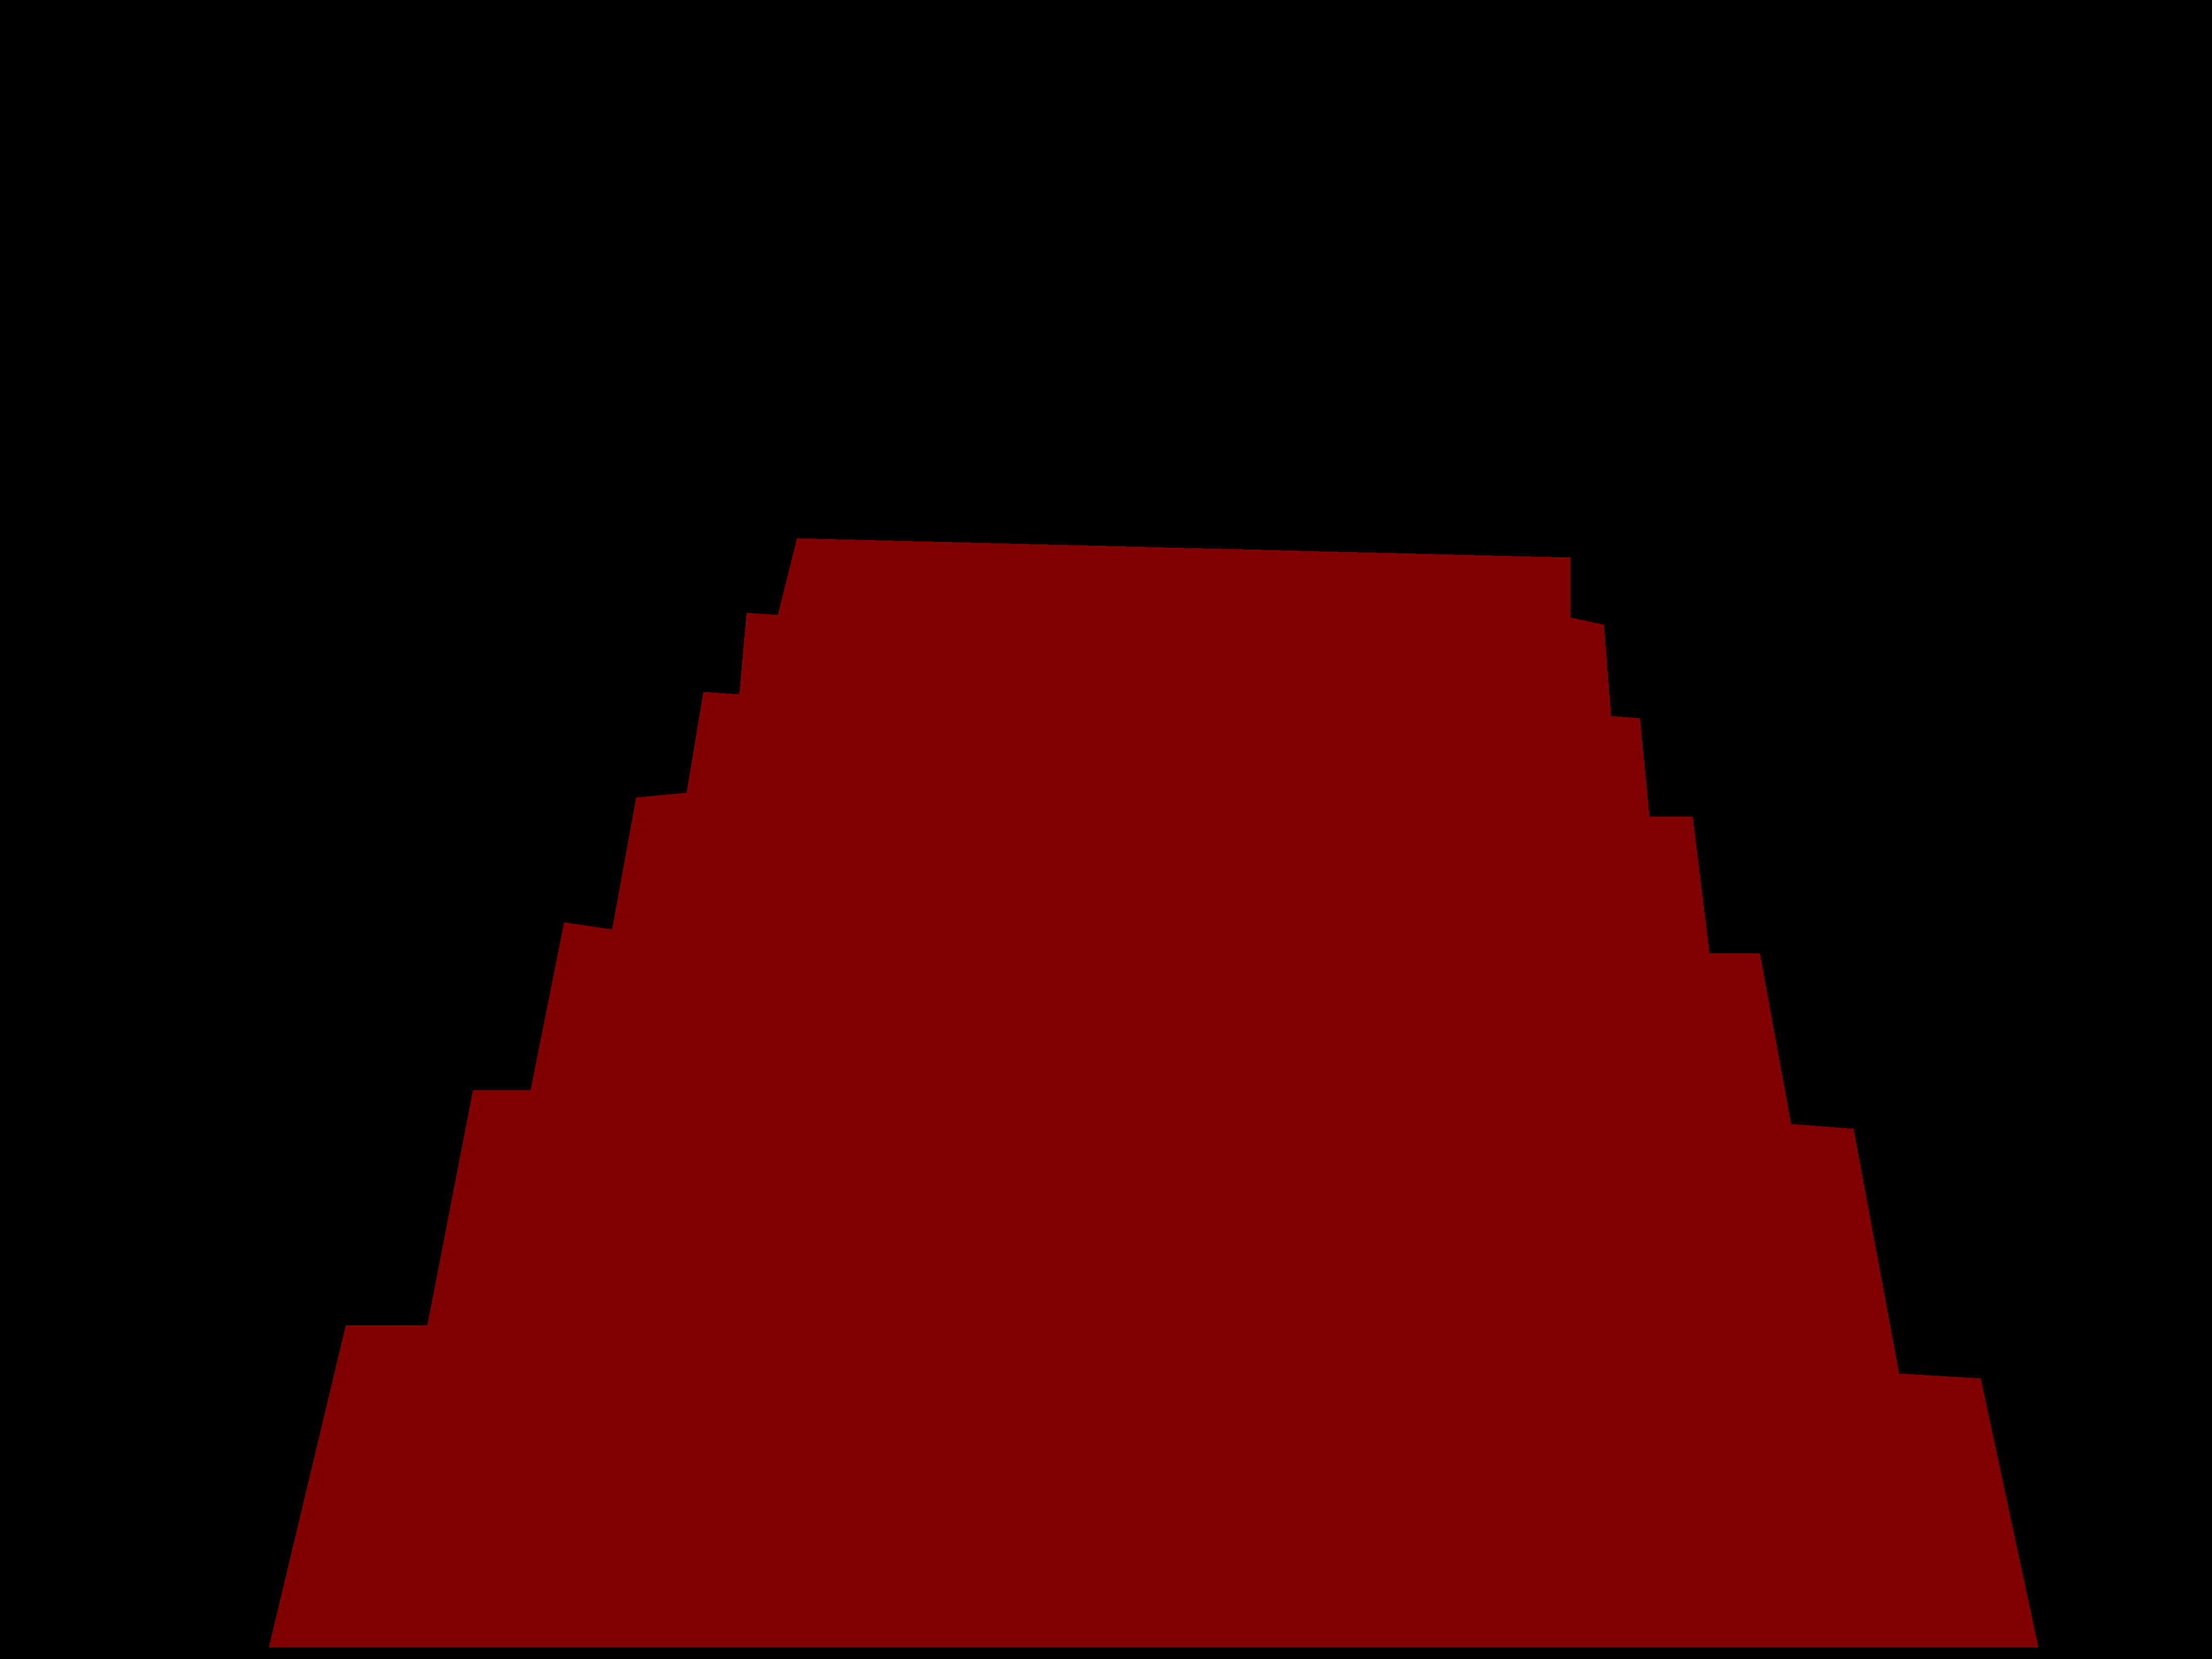stair: (268, 538, 2038, 1647)
